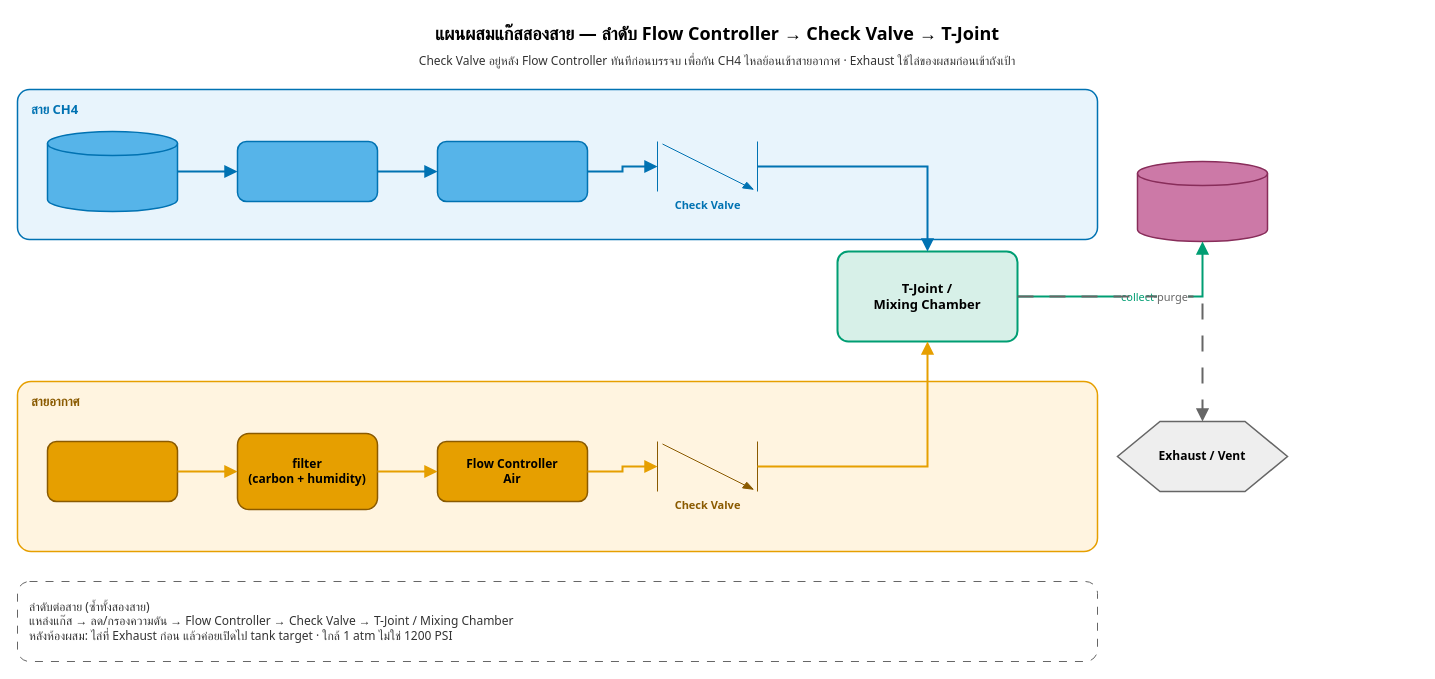
This 1435x679 diagram has some shape labels left out. The centre of each missing label's shape, as x and y in pixels:
"Air pump" goes at point (112, 471).
"Flow Controller CH4" goes at point (512, 171).
"pure methane 99.5% tank" goes at point (112, 171).
"regulator" goes at point (307, 171).
"tank target" goes at point (1202, 201).
